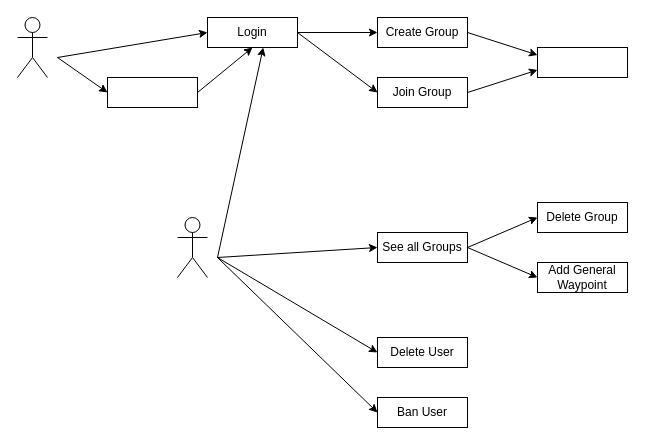
Some shapes in this 645 by 445 pixel diagram are drawn without their labels. Each missing label, with the centre of its shape:
Add/Delete Waypoint: [582,62]
Administrator: [192,247]
Sign Up: [152,92]
User: [32,47]
